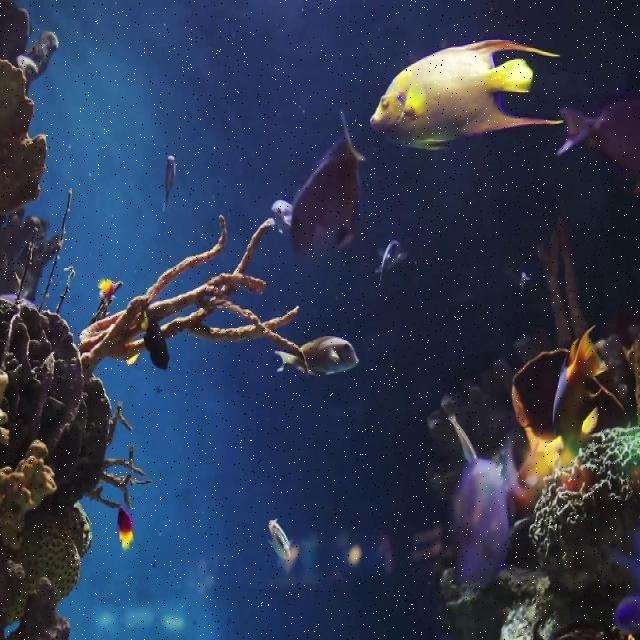fish: (369, 36, 563, 151), (451, 420, 528, 586), (292, 108, 366, 261), (553, 323, 610, 454), (559, 94, 639, 176), (274, 337, 359, 375), (374, 240, 407, 288), (162, 154, 174, 214)
reefs: (0, 189, 309, 639)
